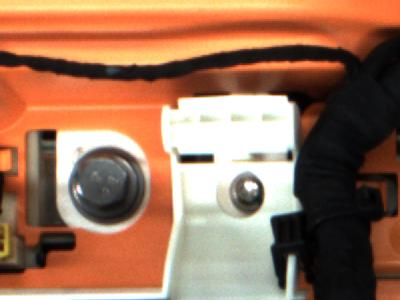nut_b: (60, 147, 157, 225)
